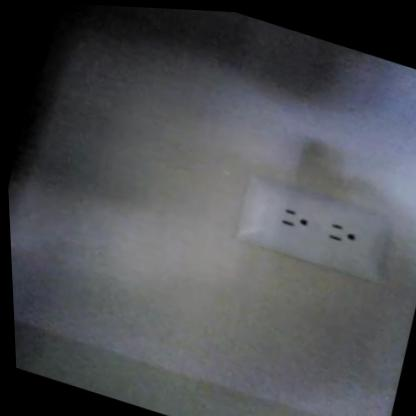OUTLET: (229, 170, 399, 286)
